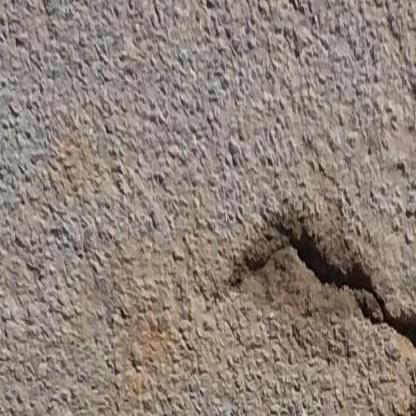Cracks: (240, 221, 416, 363), (368, 402, 416, 416)
